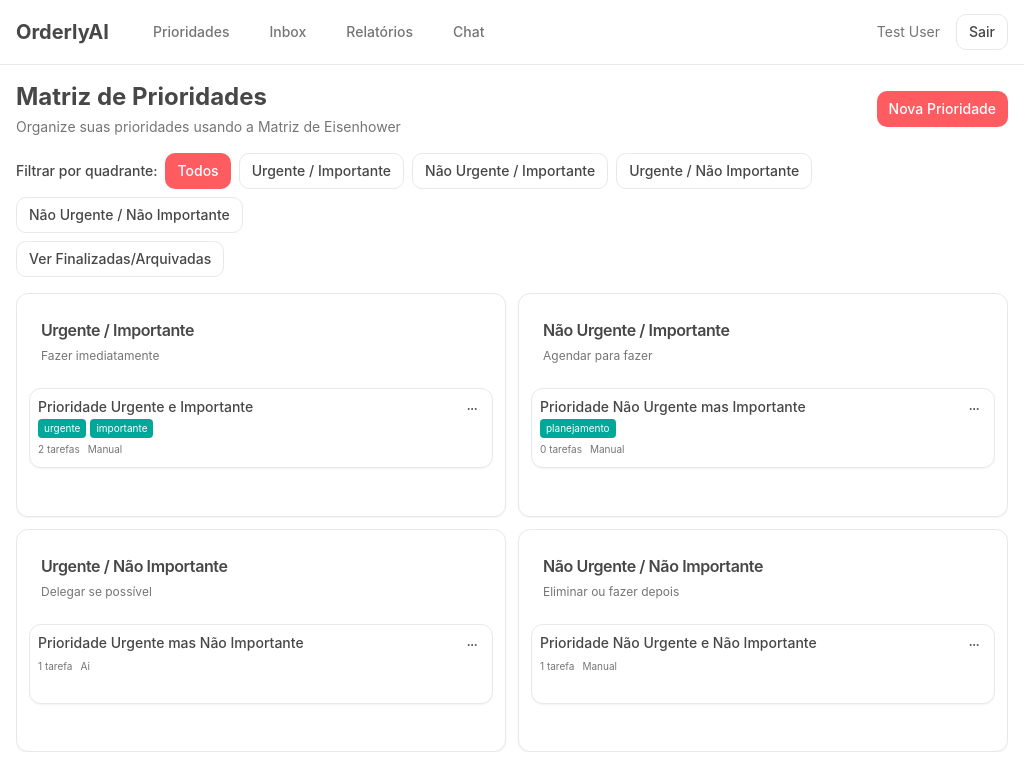
Test: PrioritiesPage › Criação de Prioridade › deve criar uma nova prioridade com sucesso
The image size is (1024, 768).
Expected: the heading "Matriz de Prioridades" is shown, [16,82,267,111]
Click the button "Nova Prioridade": (942,109) [876,91,1008,127]
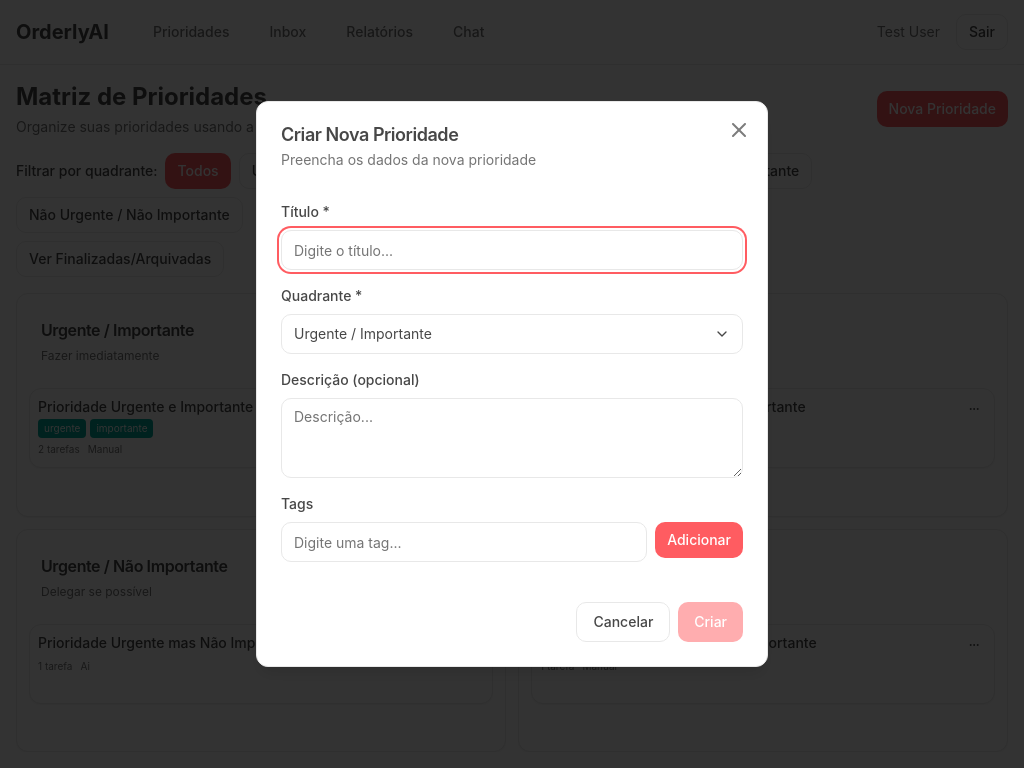
In the field with placeholder "Digite o título...": (512,250) [281,230,743,270], type "Nova Prioridade de Teste"
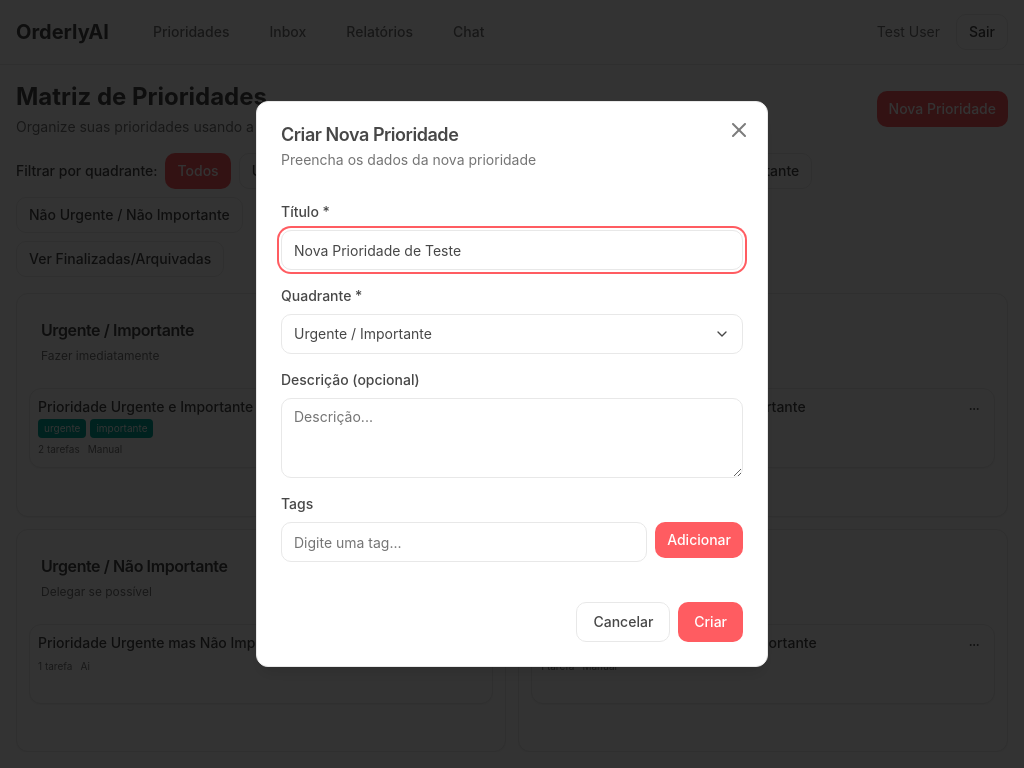
Click the button "Criar": (711,622) [678,602,743,642]
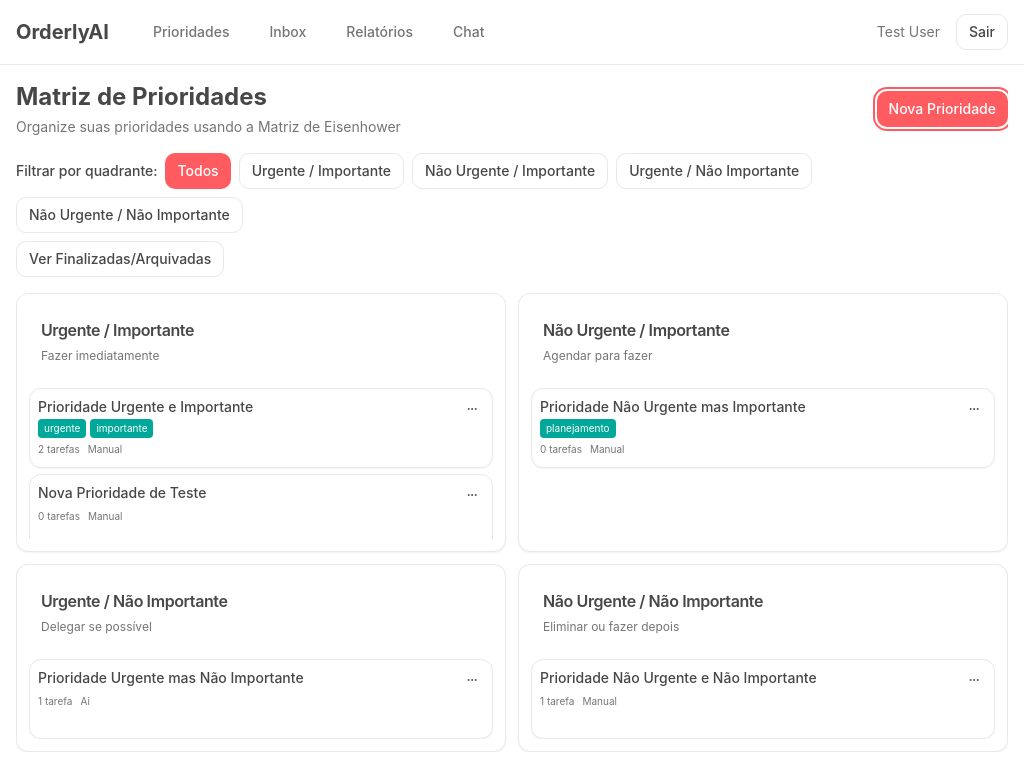
Now the heading "Nova Prioridade de Teste" is shown, box [38,484,206,501]
